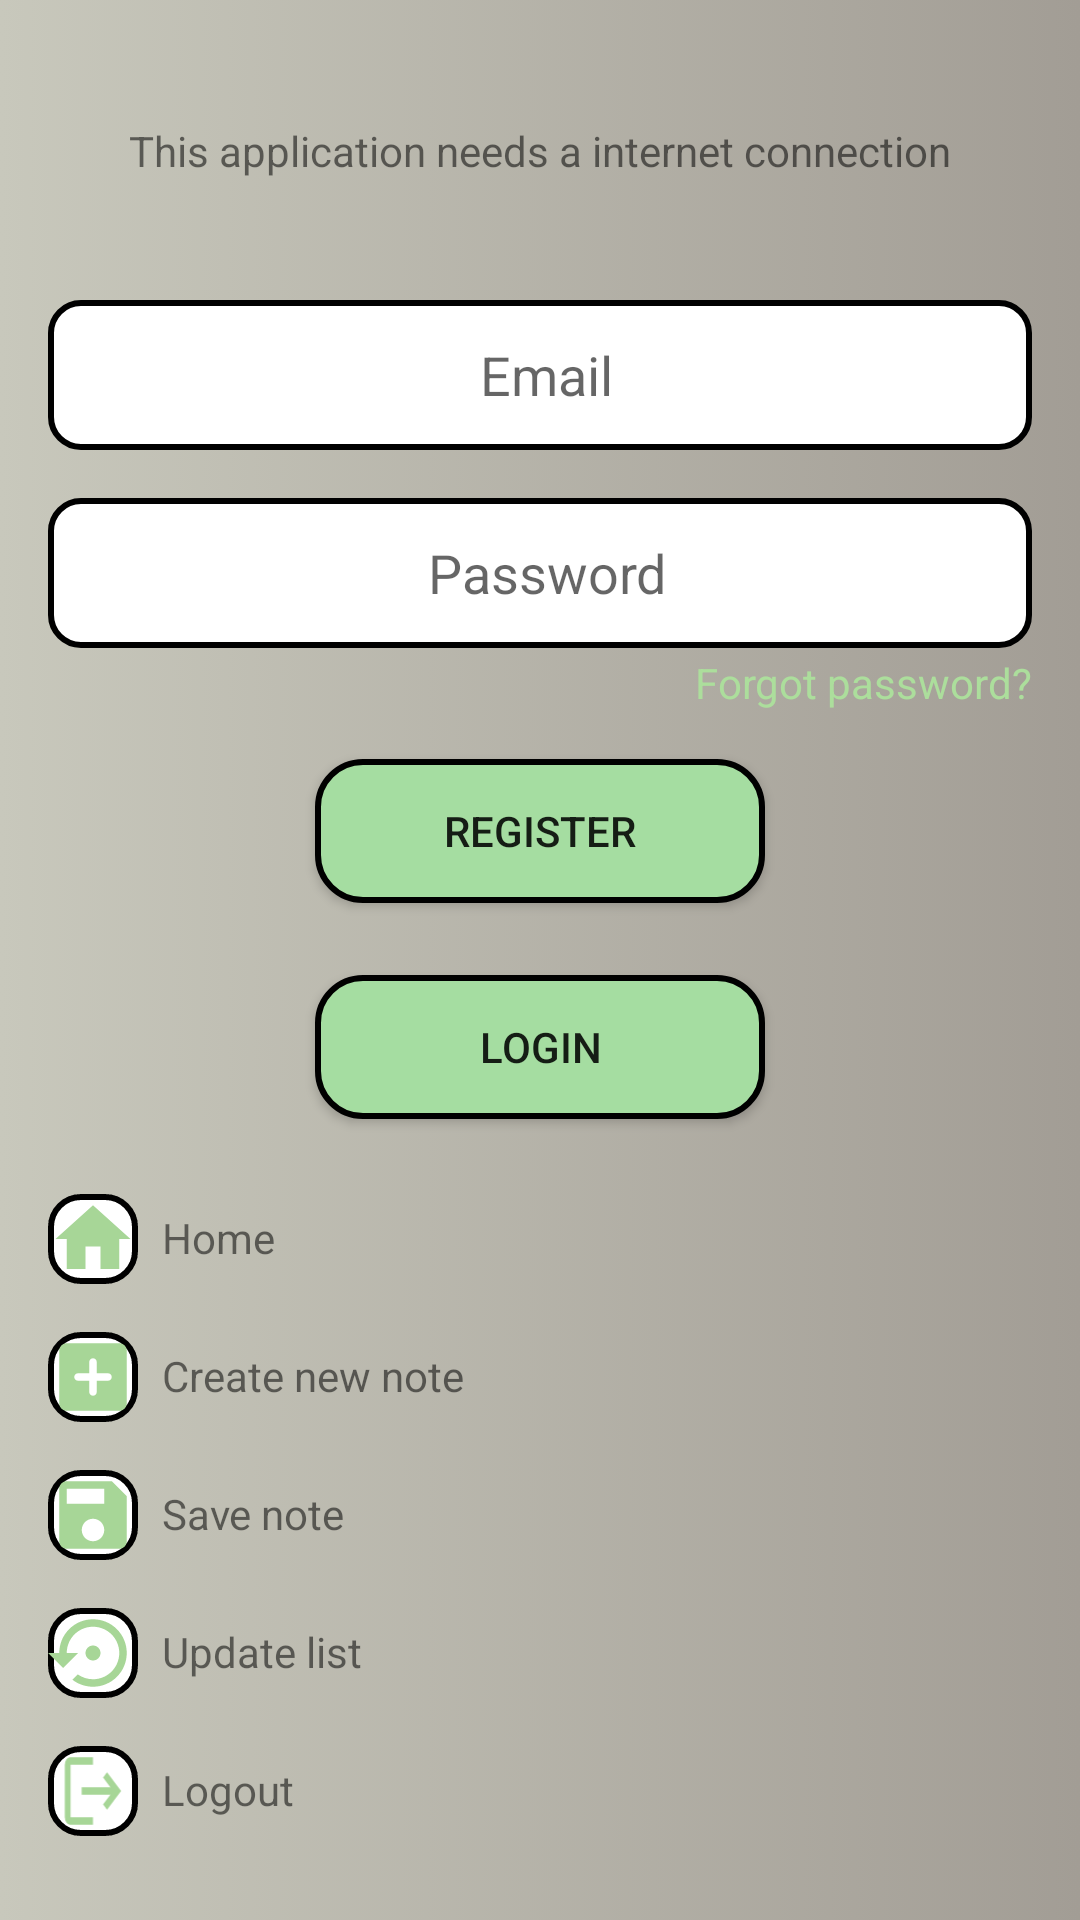

Icon click points for this 1080 × 1920 phone screenshot, format (x,y):
add box: (93,1377)
settings backup restore: (93,1653)
